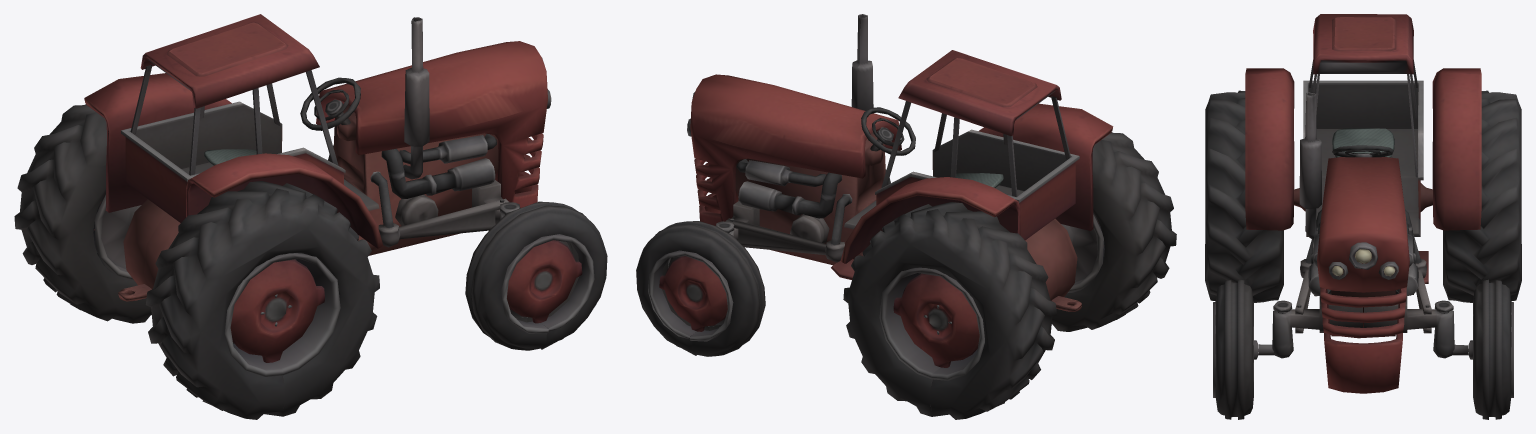
Rendered from tractor-278fc1.glb.
The picture shows the model from 3 angles, left to right: view 1: azimuth 30°, elevation 25°; view 2: azimuth 150°, elevation 25°; view 3: azimuth 270°, elevation 25°; orthographic projection. The views are drawn at different scales.
Visible parts, largest first — view 1: PropMesh; view 2: PropMesh; view 3: PropMesh.
Part boxes in pixels (x1,y1,x2,y2): PropMesh: (14, 14, 607, 419); PropMesh: (636, 14, 1176, 419); PropMesh: (1205, 14, 1521, 419).
Size of the model in its own units: 2.6 by 1.76 by 1.77.
Materials: 9 (9 with a texture image).
